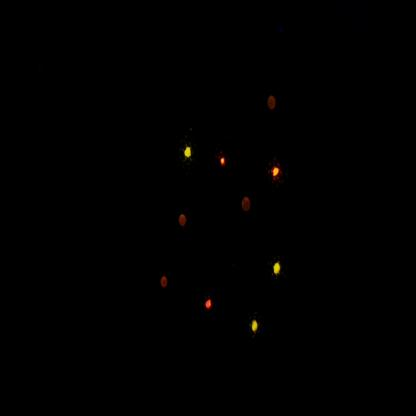PE: (265, 252, 292, 300), (172, 136, 200, 178), (245, 309, 268, 351)
PS: (154, 261, 176, 305), (262, 84, 285, 122), (174, 202, 195, 240), (238, 187, 258, 223)
PVC: (265, 154, 290, 192), (199, 285, 220, 327), (213, 143, 236, 180)
